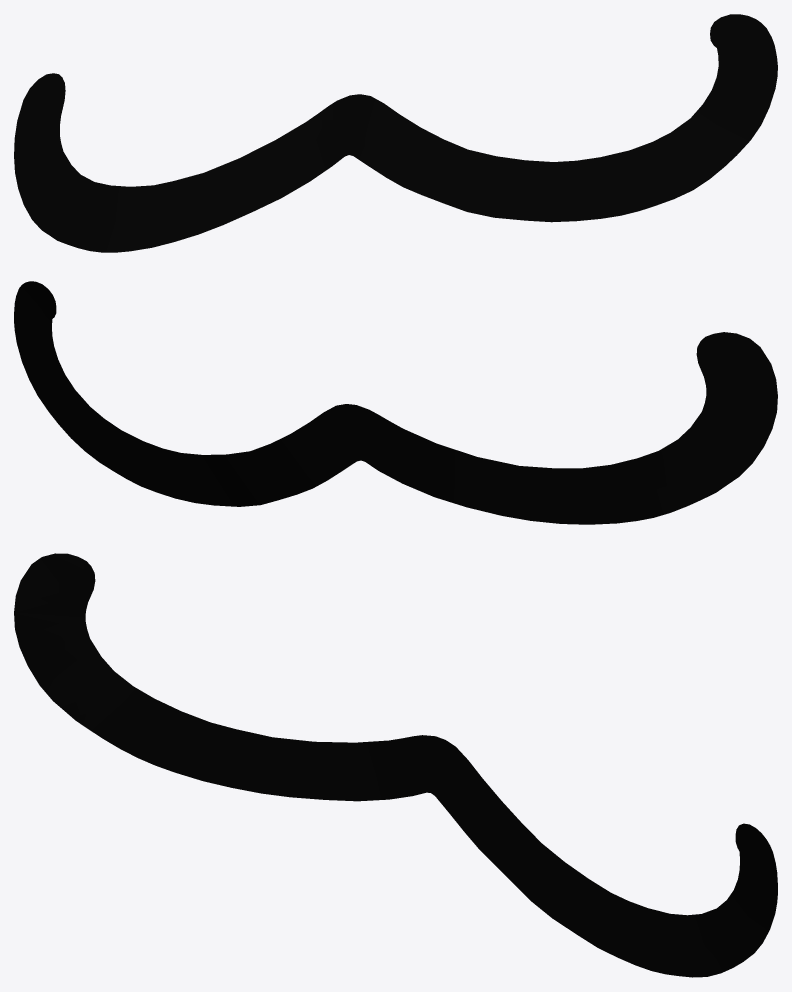
File: 22-Silly-Smile-mouth.glb
The picture shows the model from 3 angles, top to bottom: view 1: azimuth 30°, elevation 25°; view 2: azimuth 150°, elevation 25°; view 3: azimuth 330°, elevation 25°; orthographic projection. The views are drawn at different scales.
Parts seen in each view (by area): view 1: 22-Silly-Smile-mouth; view 2: 22-Silly-Smile-mouth; view 3: 22-Silly-Smile-mouth.
Boxes of the visible parts, x1=… form: 22-Silly-Smile-mouth: x1=14, y1=14, x2=777, y2=252; 22-Silly-Smile-mouth: x1=14, y1=281, x2=777, y2=524; 22-Silly-Smile-mouth: x1=14, y1=553, x2=777, y2=977.
Bounding box in the file's own units: 0.4441 × 0.1608 × 0.0477.
1 material, 1 textured.
